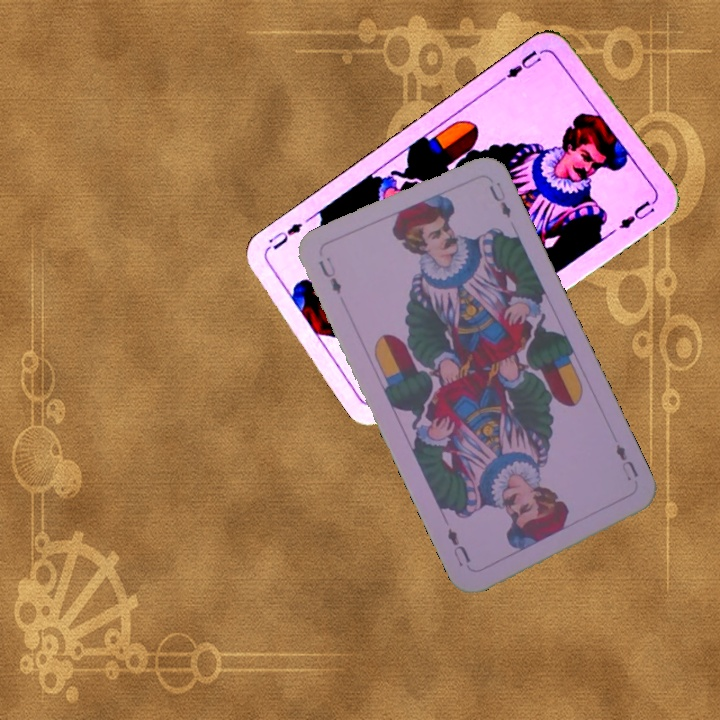EU: (496, 45, 548, 85), (314, 253, 344, 297), (611, 440, 641, 483)
